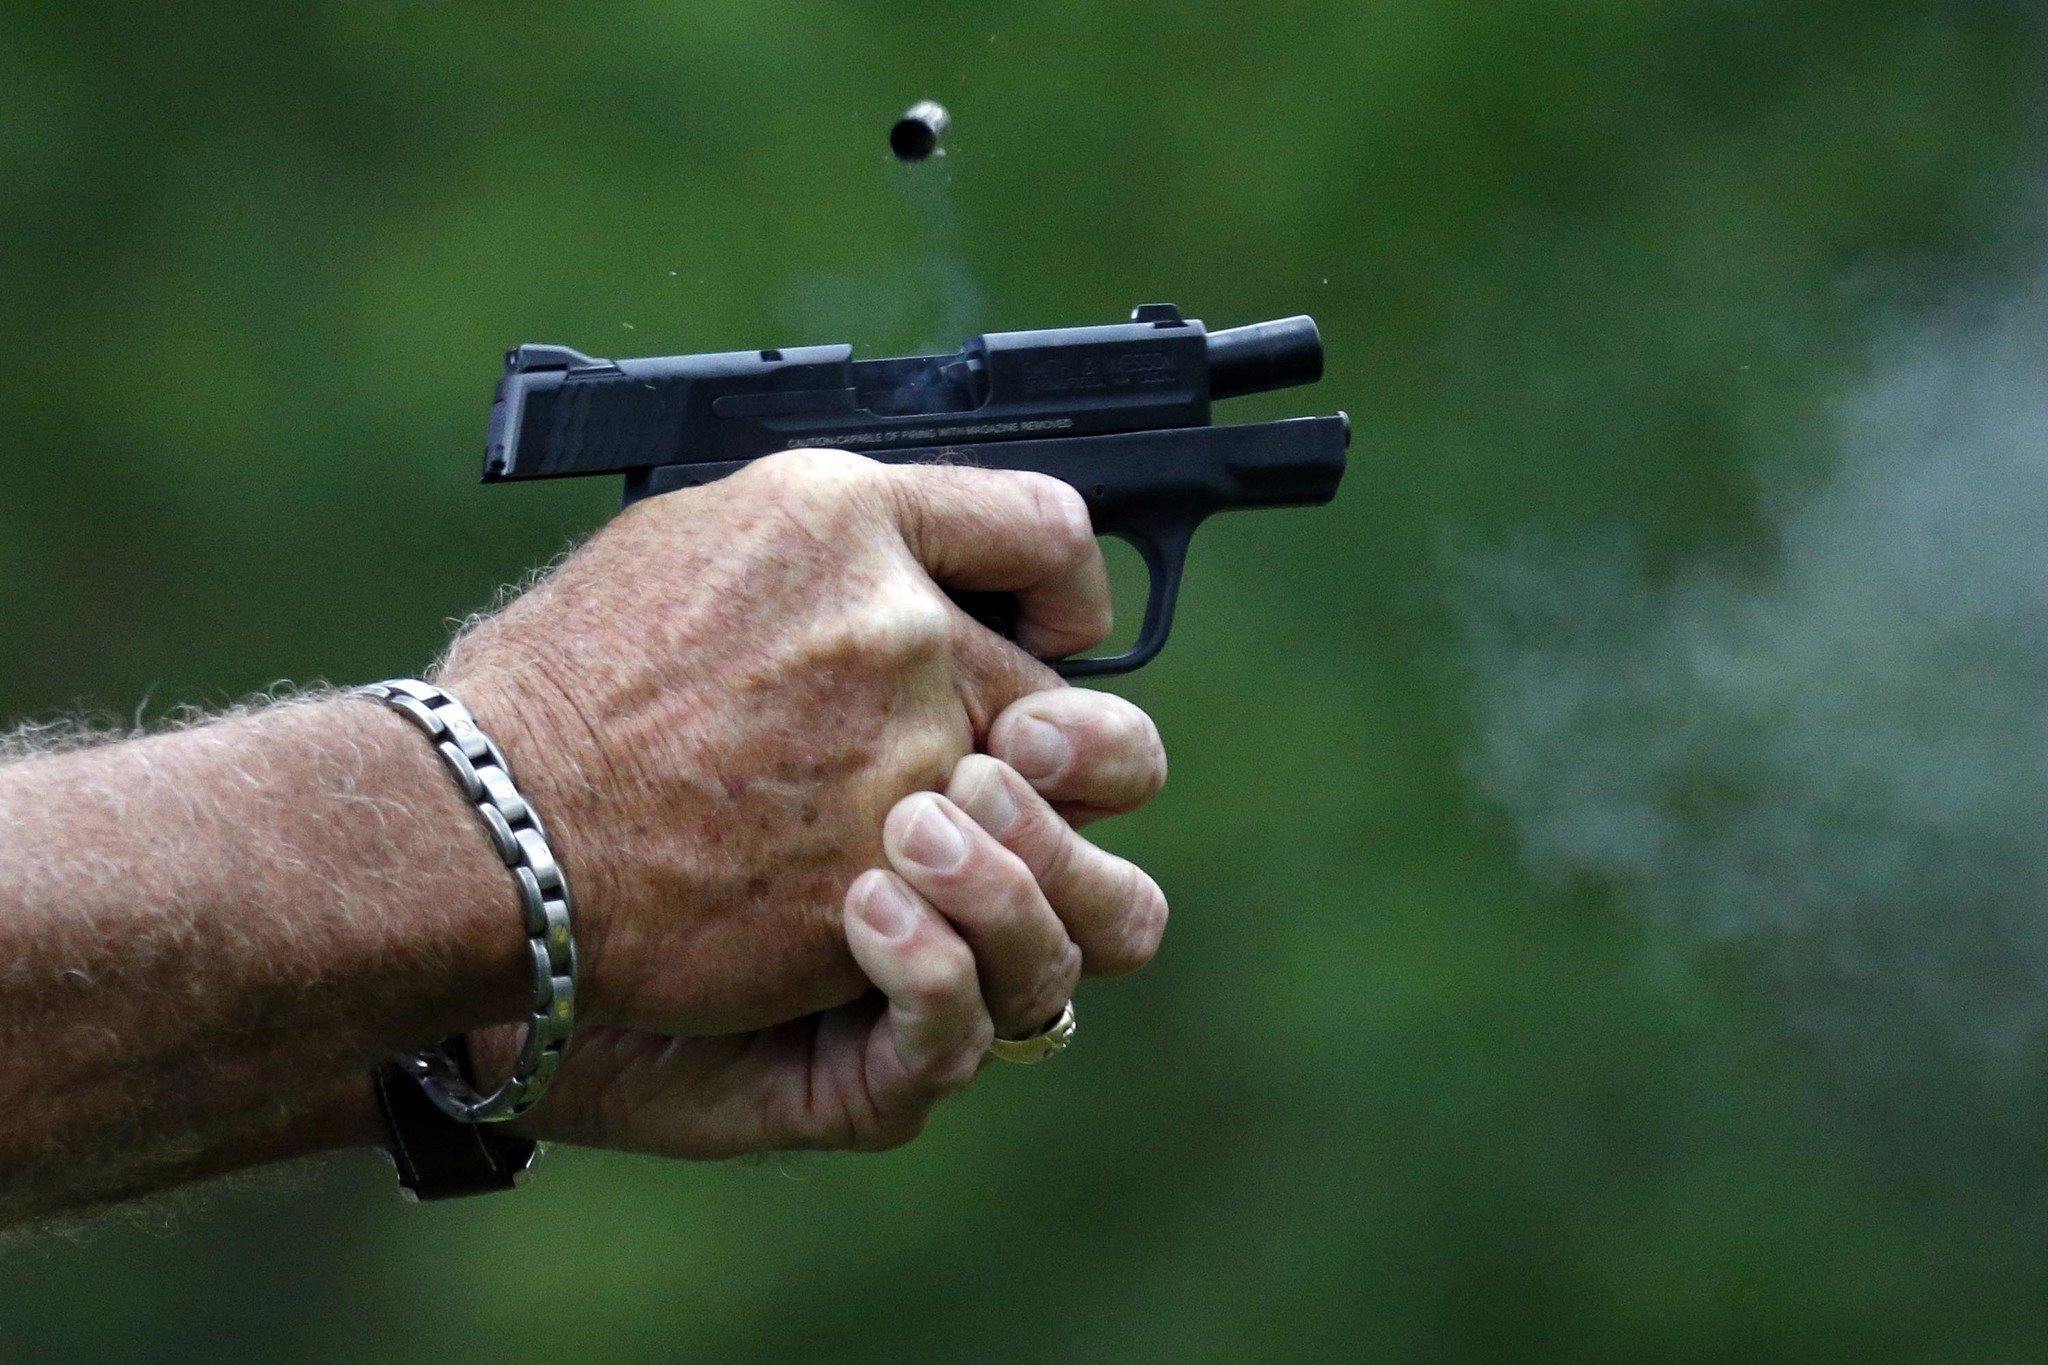Gun: (557, 250, 1364, 602)
